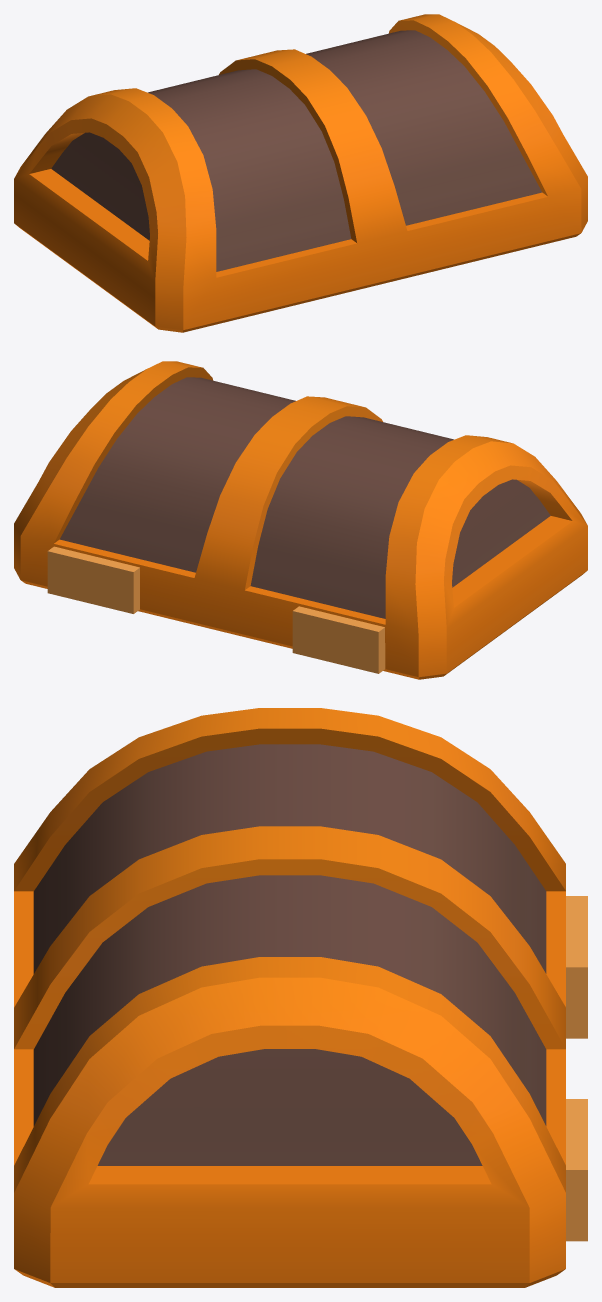
The model's file is Chest_Cap_03.glb.
3 renders of one model, top to bottom at view 1: azimuth 30°, elevation 25°; view 2: azimuth 150°, elevation 25°; view 3: azimuth 270°, elevation 25°, orthographic. The views are drawn at different scales.
Visible parts, largest first — view 1: Chest_Cap_03; view 2: Chest_Cap_03; view 3: Chest_Cap_03.
Boxes of the visible parts, box(x1,y1,x2,y2) form: Chest_Cap_03: box(14, 14, 587, 332); Chest_Cap_03: box(14, 361, 587, 679); Chest_Cap_03: box(14, 708, 587, 1287).
Bounding box in the file's own units: 1.22 × 0.4276 × 0.8247.
Materials: 1 (1 with a texture image).
